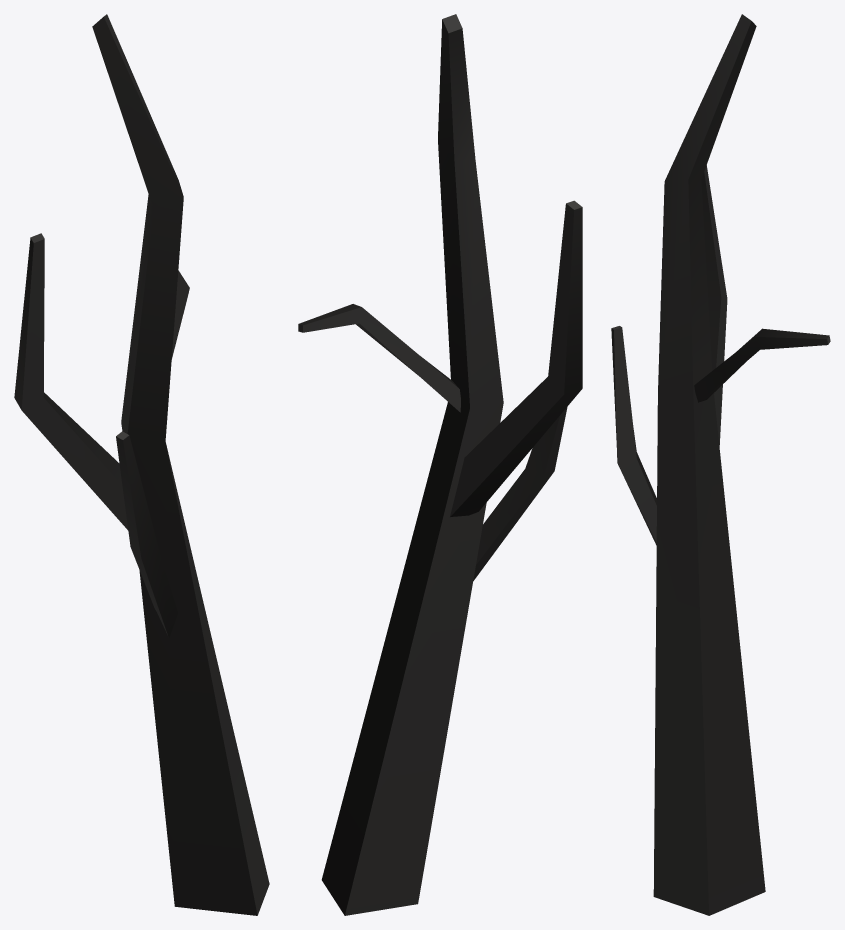
Rendered from SF_Env_Tree_Burnt_01.fbx.
The picture shows the model from 3 angles, left to right: view 1: azimuth 30°, elevation 25°; view 2: azimuth 150°, elevation 25°; view 3: azimuth 270°, elevation 25°; orthographic projection. The views are drawn at different scales.
Visible parts, largest first — view 1: SF_Env_Tree_Burnt_01; view 2: SF_Env_Tree_Burnt_01; view 3: SF_Env_Tree_Burnt_01.
Part boxes in pixels (x1,y1,x2,y2): SF_Env_Tree_Burnt_01: (14,14,269,915); SF_Env_Tree_Burnt_01: (298,14,582,915); SF_Env_Tree_Burnt_01: (611,14,830,915).
Bounding box in the file's own units: 2.29 × 7.76 × 1.85.
